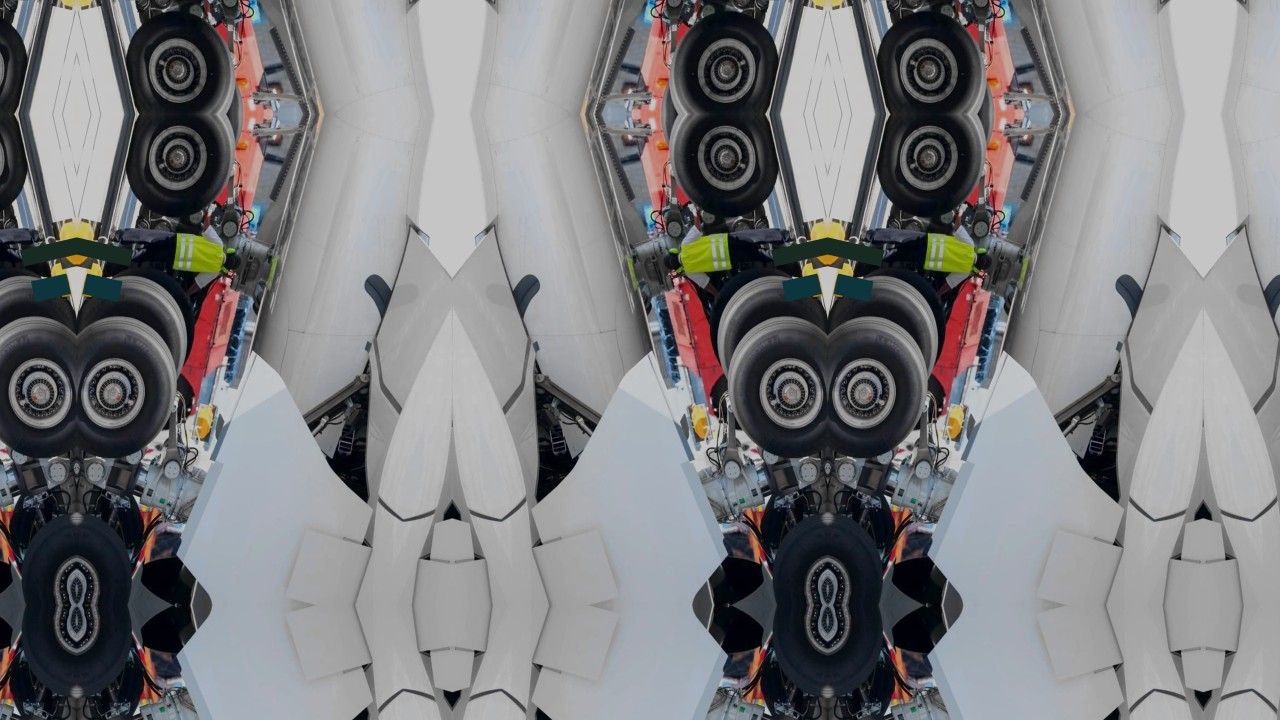chock: (51, 217, 76, 270), (76, 217, 101, 270), (803, 217, 828, 270), (828, 217, 853, 270), (44, 259, 73, 302), (79, 259, 108, 302), (796, 259, 825, 302), (831, 259, 860, 302), (191, 403, 216, 443), (688, 403, 713, 443), (943, 403, 968, 443), (51, 0, 76, 11), (76, 0, 101, 11), (803, 0, 828, 11), (828, 0, 853, 11)
wheel: (76, 300, 193, 470), (711, 300, 828, 470), (828, 300, 945, 470), (76, 262, 202, 391), (702, 262, 828, 391), (828, 262, 954, 391), (117, 114, 248, 229), (656, 114, 787, 229), (869, 114, 1000, 229), (117, 0, 248, 114), (656, 0, 787, 114), (869, 0, 1000, 114), (0, 300, 76, 470), (0, 262, 76, 391), (76, 468, 154, 577), (750, 468, 828, 577), (828, 468, 906, 577), (0, 468, 76, 577), (6, 499, 76, 605), (76, 499, 146, 605), (758, 499, 828, 605), (828, 499, 898, 605), (6, 606, 76, 712), (76, 606, 146, 712), (758, 606, 828, 712), (828, 606, 898, 712), (76, 634, 154, 720), (750, 634, 828, 720), (828, 634, 906, 720), (0, 634, 76, 720), (140, 76, 256, 114), (648, 76, 764, 114), (892, 76, 1008, 114), (140, 114, 256, 152), (648, 114, 764, 152), (892, 114, 1008, 152), (0, 114, 35, 229), (0, 0, 35, 114), (165, 372, 199, 426), (705, 372, 739, 426), (917, 372, 951, 426)
